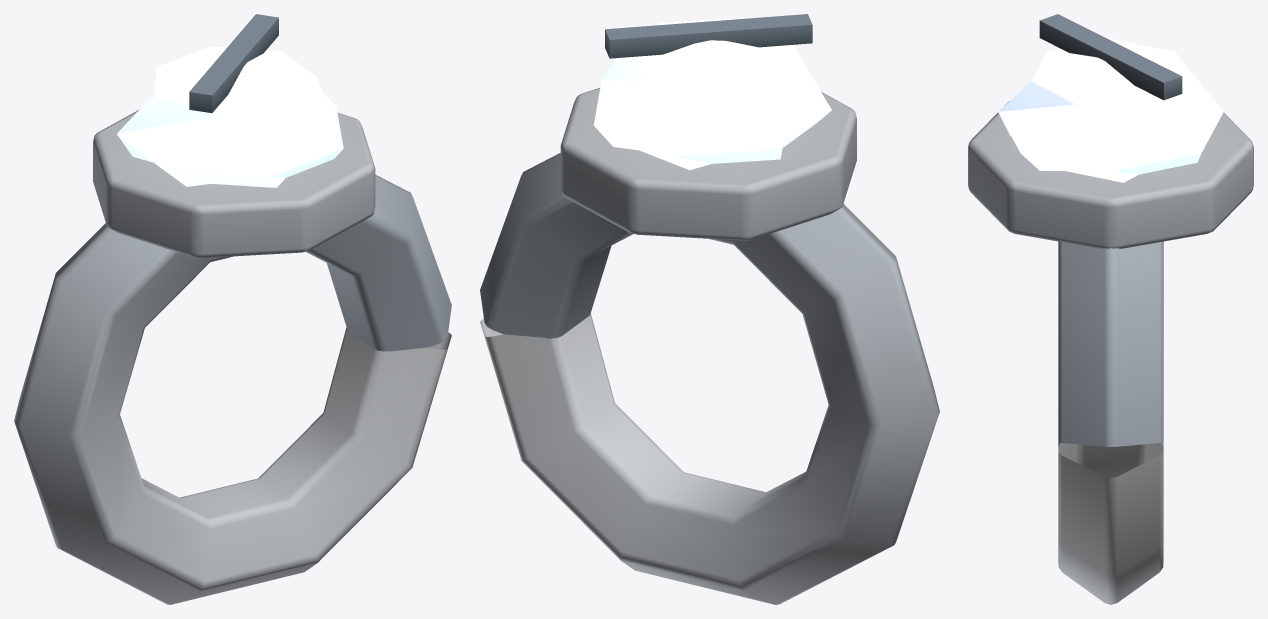
File: lg_moonstone_signet.glb
3 renders of one model, left to right at view 1: azimuth 30°, elevation 25°; view 2: azimuth 150°, elevation 25°; view 3: azimuth 270°, elevation 25°, orthographic. The views are drawn at different scales.
Parts seen in each view (by area): view 1: lg_moonstone_signet, lg_moonstone_signet_glow, lg_moonstone_signet_trim; view 2: lg_moonstone_signet, lg_moonstone_signet_glow, lg_moonstone_signet_trim; view 3: lg_moonstone_signet, lg_moonstone_signet_glow, lg_moonstone_signet_trim.
Boxes of the visible parts, x1,y1,x2,y2 form: lg_moonstone_signet: (14, 110, 451, 604); lg_moonstone_signet_glow: (117, 46, 343, 187); lg_moonstone_signet_trim: (189, 14, 278, 113); lg_moonstone_signet: (480, 88, 939, 604); lg_moonstone_signet_glow: (593, 18, 831, 169); lg_moonstone_signet_trim: (605, 14, 812, 58); lg_moonstone_signet: (968, 101, 1253, 604); lg_moonstone_signet_glow: (998, 38, 1223, 182); lg_moonstone_signet_trim: (1039, 14, 1182, 100).
Bounding box in the file's own units: 0.5116 × 0.5996 × 0.2964.
